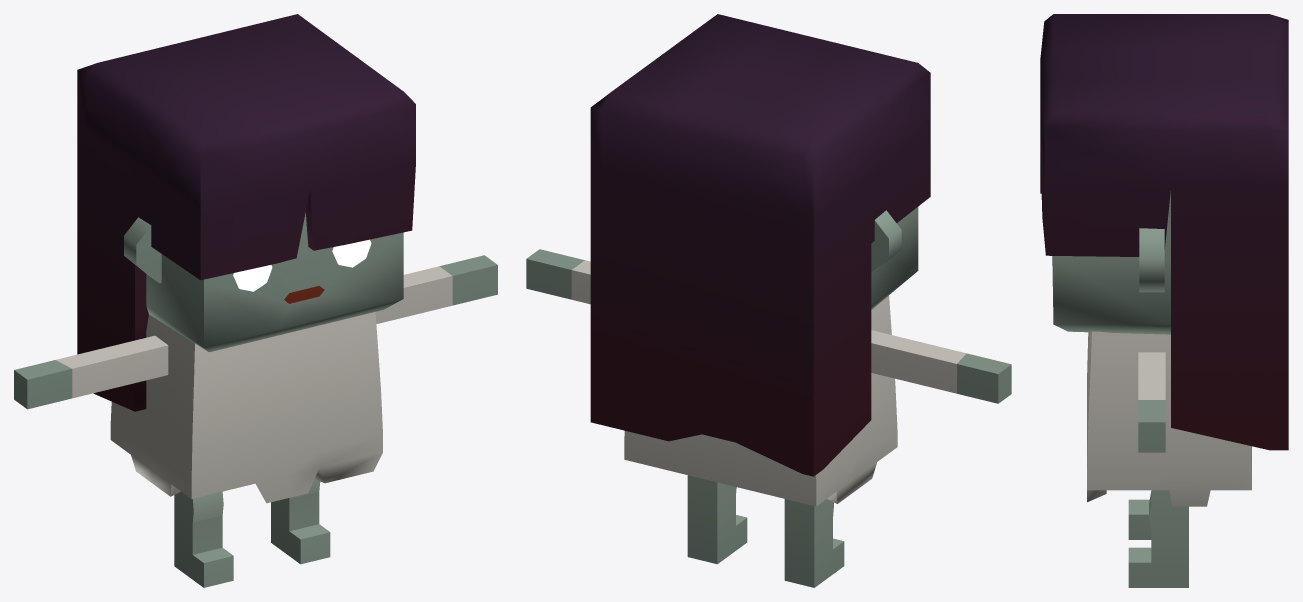
The model's file is girl-creepy.fbx.
The picture shows the model from 3 angles, left to right: view 1: azimuth 30°, elevation 25°; view 2: azimuth 150°, elevation 25°; view 3: azimuth 270°, elevation 25°; orthographic projection.
Visible parts, largest first — view 1: girl; view 2: girl; view 3: girl.
Part boxes in pixels (bbox=[...]): girl: bbox=[14, 14, 497, 587]; girl: bbox=[526, 14, 1011, 587]; girl: bbox=[1040, 14, 1288, 587].
Bounding box in the file's own units: 1.5 × 1.47 × 0.6709.
